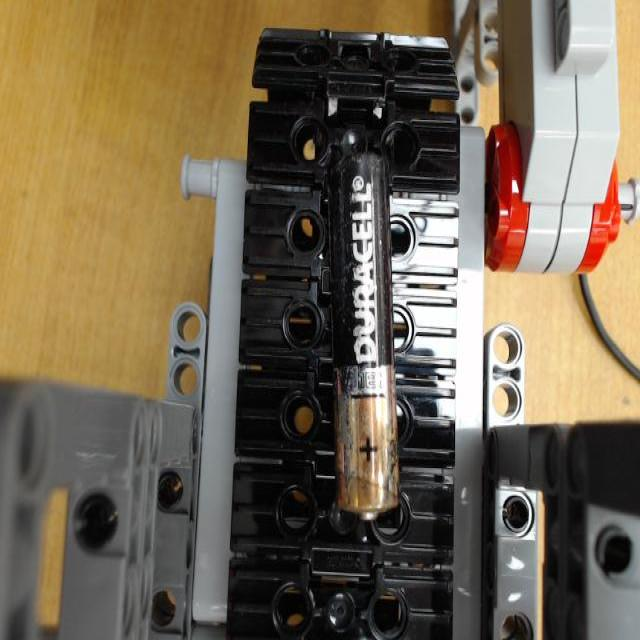AAA: (326, 154, 403, 521)
